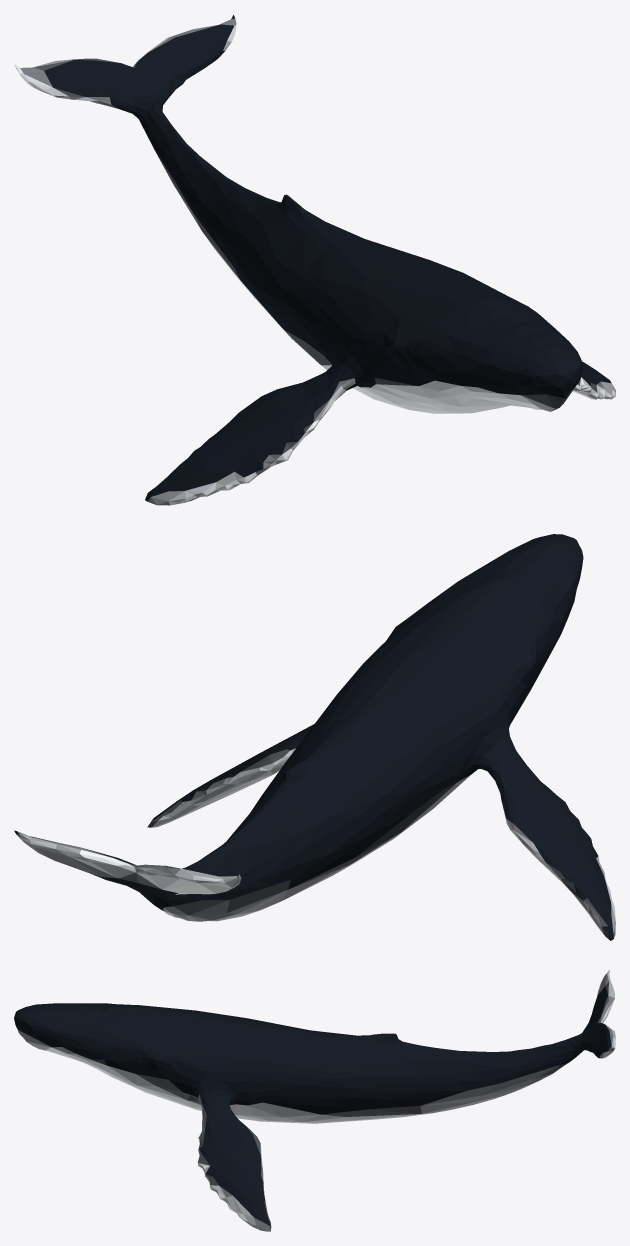
The model's file is low-poly-humpback-whale.glb.
The picture shows the model from 3 angles, top to bottom: view 1: azimuth 30°, elevation 25°; view 2: azimuth 150°, elevation 25°; view 3: azimuth 270°, elevation 25°; orthographic projection. The views are drawn at different scales.
Parts seen in each view (by area): view 1: low-poly-humpback-whale; view 2: low-poly-humpback-whale; view 3: low-poly-humpback-whale.
Boxes of the visible parts, x1,y1,x2,y2 form: low-poly-humpback-whale: [14, 15, 615, 505]; low-poly-humpback-whale: [14, 534, 615, 940]; low-poly-humpback-whale: [14, 970, 615, 1231].
Bounding box in the file's own units: 8.51 × 3.89 × 14.14.
Materials: 1 (1 with a texture image).
